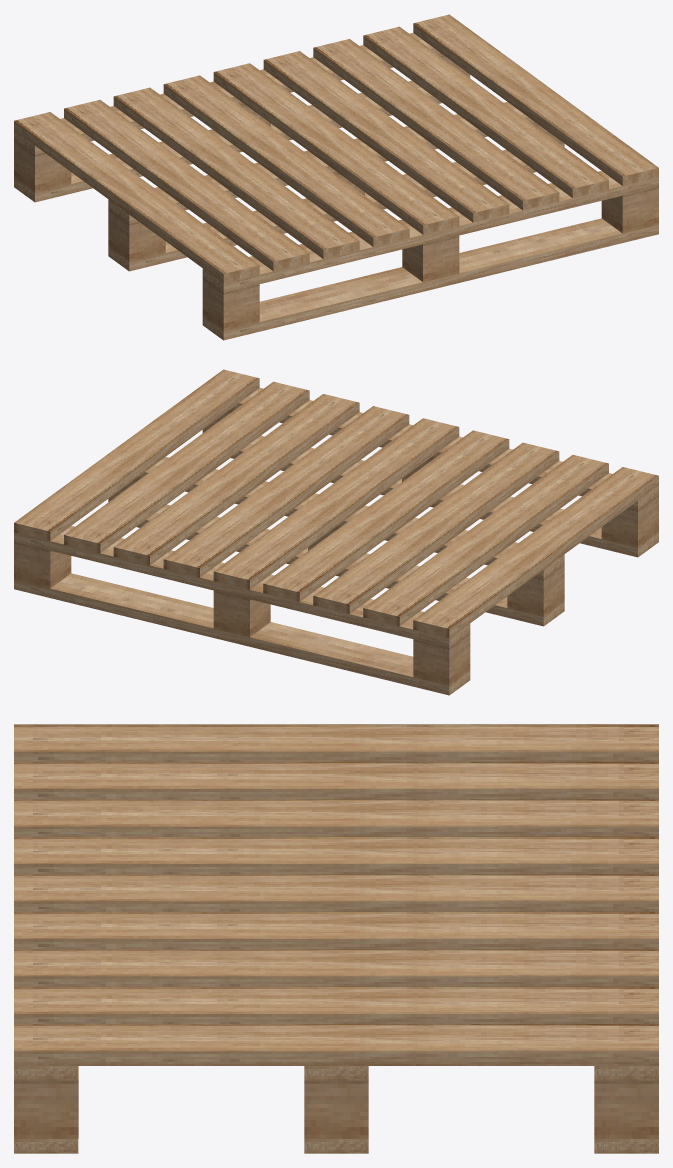
File: pallet.glb
3 renders of one model, top to bottom at view 1: azimuth 30°, elevation 25°; view 2: azimuth 150°, elevation 25°; view 3: azimuth 270°, elevation 25°, orthographic. The views are drawn at different scales.
Visible parts, largest first — view 1: Cube.002, Cube.003, Cube.004, Cube, Cube.001; view 2: Cube.002, Cube.003, Cube.004, Cube, Cube.001; view 3: Cube.002, Cube, Cube.003, Cube.004.
Part boxes in pixels (box(x1,y1,x2,y2)): Cube.002: box(14, 14, 658, 283); Cube.003: box(14, 80, 658, 340); Cube.004: box(14, 33, 658, 292); Cube: box(14, 55, 658, 330); Cube.001: box(241, 104, 459, 282); Cube.002: box(14, 369, 658, 638); Cube.003: box(14, 435, 658, 695); Cube.004: box(14, 388, 658, 647); Cube: box(14, 410, 658, 685); Cube.001: box(213, 459, 431, 637); Cube.002: box(14, 724, 658, 1065); Cube: box(14, 1066, 658, 1138); Cube.003: box(14, 1139, 658, 1153); Cube.004: box(14, 1066, 658, 1080).
Bounding box in the file's own units: 1.2 × 0.175 × 1.
Materials: 1 (1 with a texture image).
